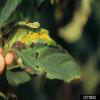Potato leaf early blight: (3, 21, 86, 84)
